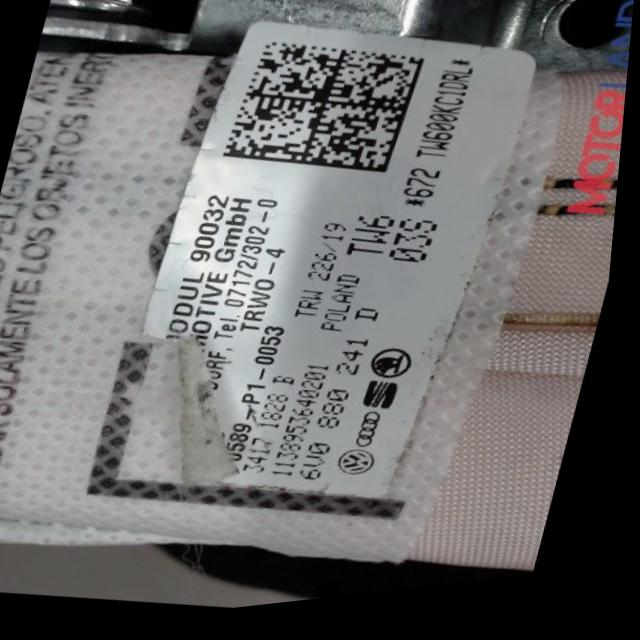datamatrix: (223, 31, 431, 198)
